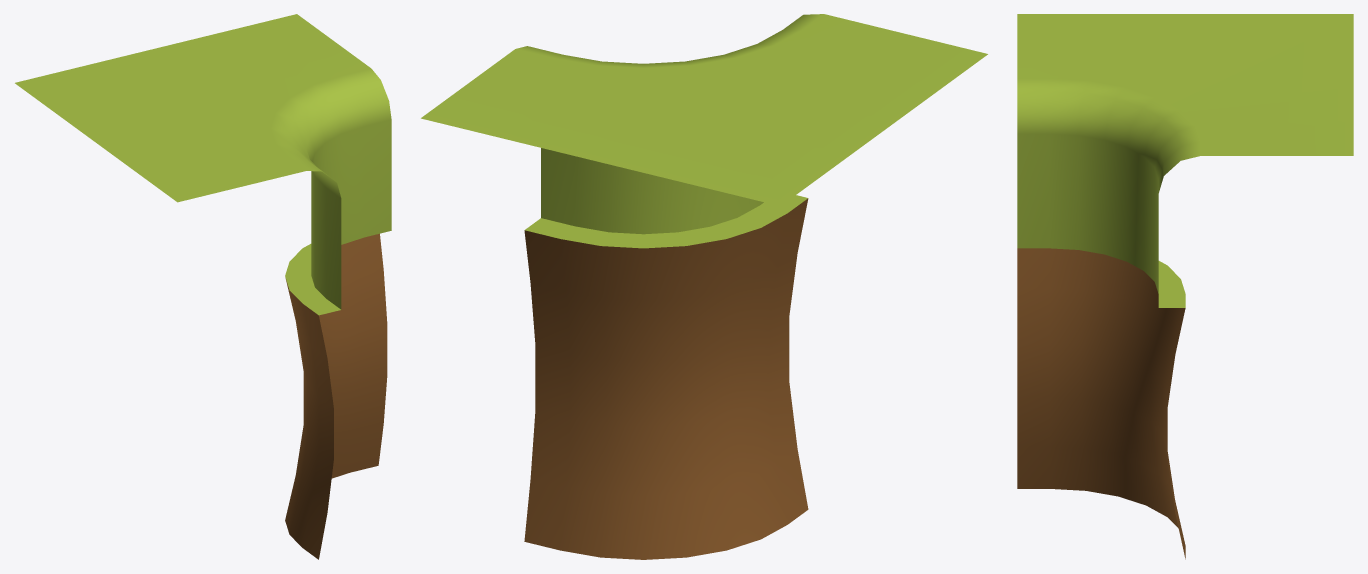
The model's file is QuinaInterna4.fbx.
3 renders of one model, left to right at view 1: azimuth 30°, elevation 25°; view 2: azimuth 150°, elevation 25°; view 3: azimuth 270°, elevation 25°, orthographic. The views are drawn at different scales.
Visible parts, largest first — view 1: QuinaInterna4; view 2: QuinaInterna4; view 3: QuinaInterna4.
Part boxes in pixels (x1=…): QuinaInterna4: x1=15, y1=14, x2=391, y2=559; QuinaInterna4: x1=421, y1=14, x2=987, y2=559; QuinaInterna4: x1=1017, y1=14, x2=1353, y2=559.
Size of the model in its own units: 100 by 133 by 100.
